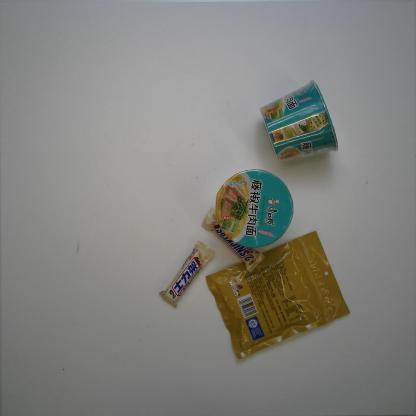Chocolate: (157, 239, 218, 310), (201, 209, 265, 274)
Dried Fruit: (203, 229, 350, 362)
Instant Noodles: (259, 77, 339, 166), (214, 169, 296, 251)
